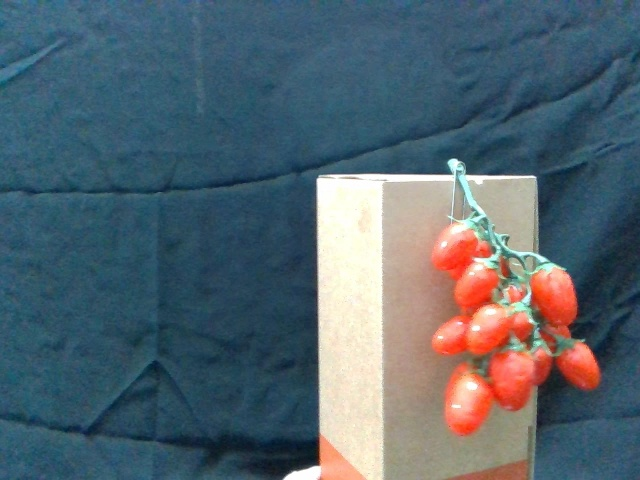tomato: (443, 361, 491, 439), (526, 258, 579, 326), (491, 340, 535, 411), (466, 304, 519, 356), (431, 217, 478, 273), (455, 257, 500, 310), (556, 337, 601, 390), (431, 312, 469, 356), (526, 333, 557, 383)
